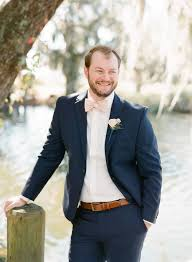F_M_suit jacket: (20, 92, 171, 227)
F_belt: (76, 195, 139, 216)
F_dress pants: (66, 207, 142, 262)
